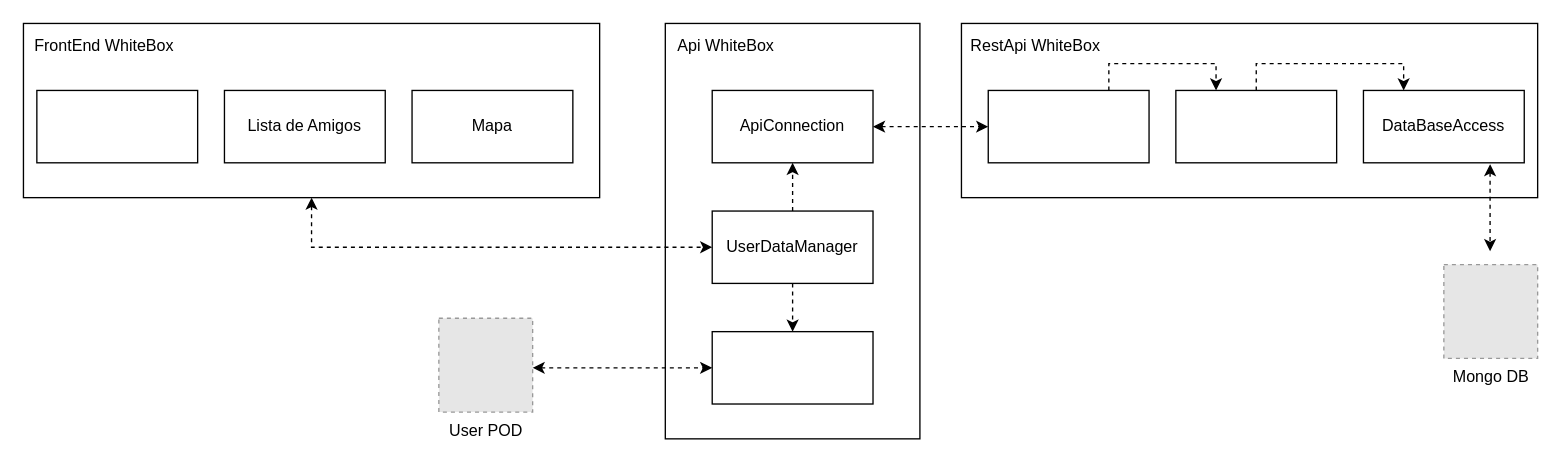
Image size: 1561x464. Some labels were removed from this diagram. Grey dashed boxes stand in for pictures. The centre of each missing label's shape, as x and y in pixels:
"Controller" goes at pixel 1068 126.
"Login" goes at pixel 117 126.
"PodAccess" goes at pixel 792 367.
"UserManager" goes at pixel 1256 126.
